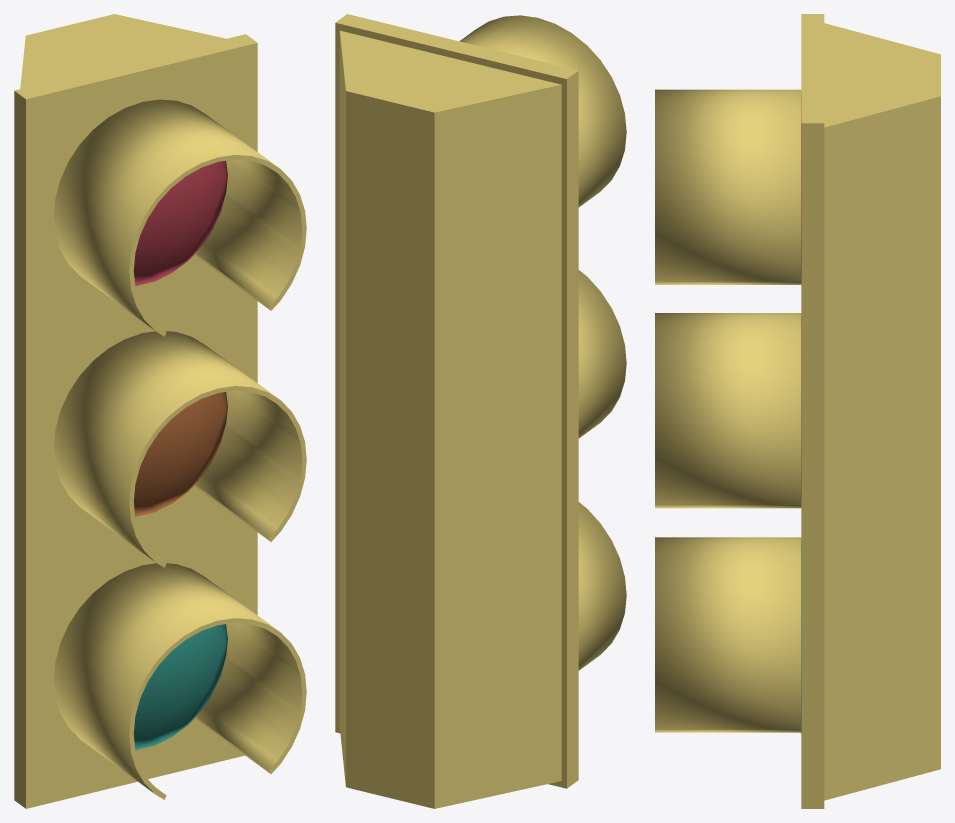
Rendered from TrafficSignal.dae.
3 views of the same model, side by side, from view 1: azimuth 30°, elevation 25°; view 2: azimuth 150°, elevation 25°; view 3: azimuth 270°, elevation 25° (orthographic). The views are drawn at different scales.
Parts seen in each view (by area): view 1: body, hoodRed, hoodYellow, hoodGreen, shieldGreen, shieldRed, shieldYellow; view 2: body, hoodRed, hoodYellow, hoodGreen; view 3: body, hoodGreen, hoodYellow, hoodRed.
Boxes of the visible parts, <box> form: body: <box>14,14,257,808</box>; hoodRed: <box>53,99,306,336</box>; hoodYellow: <box>53,331,306,567</box>; hoodGreen: <box>53,563,306,799</box>; shieldGreen: <box>74,624,227,750</box>; shieldRed: <box>133,161,227,285</box>; shieldYellow: <box>133,392,227,516</box>; body: <box>335,14,578,808</box>; hoodRed: <box>460,15,626,207</box>; hoodYellow: <box>578,270,626,438</box>; hoodGreen: <box>578,502,626,670</box>; body: <box>801,14,940,808</box>; hoodGreen: <box>655,537,801,732</box>; hoodYellow: <box>655,313,801,508</box>; hoodRed: <box>655,89,801,284</box>.
Size of the model in its own units: 0.3678 by 0.4067 by 1.08.
